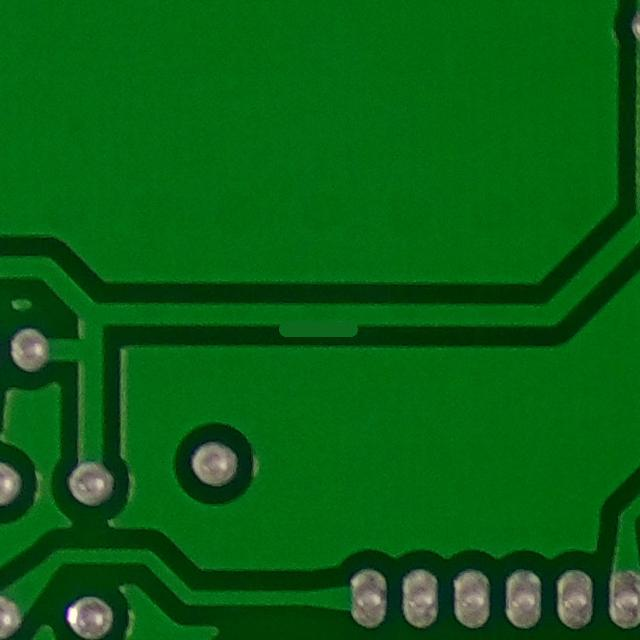spur: (260, 290, 380, 350)
